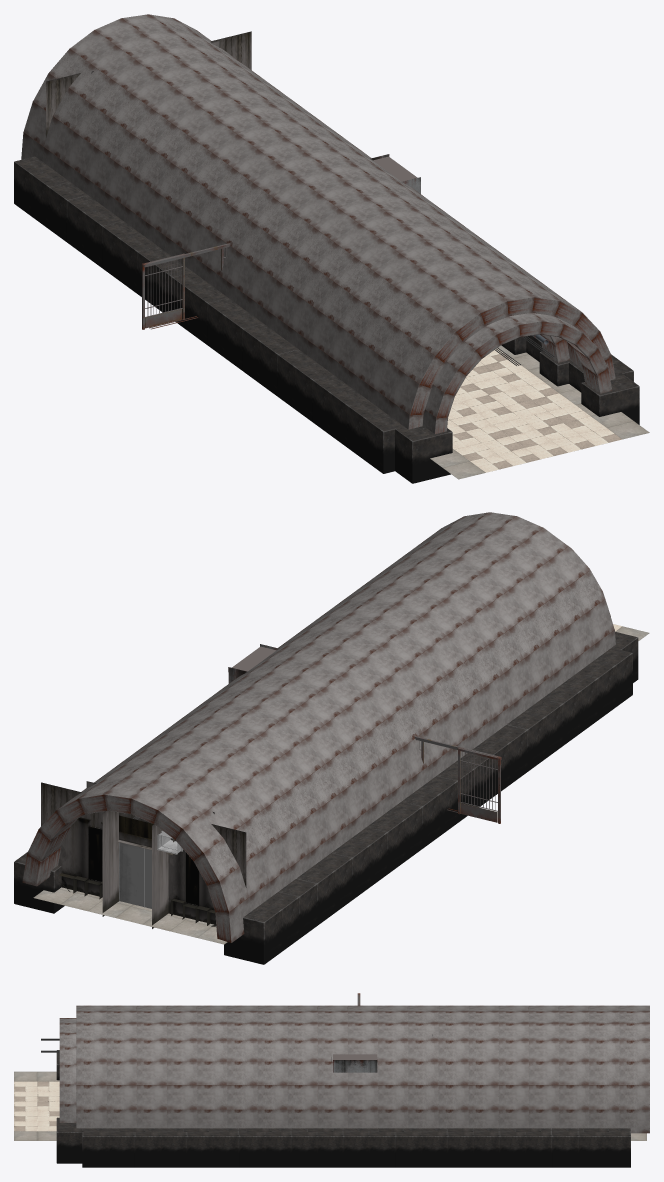
File: ALL Section 1 Past.fbx
The picture shows the model from 3 angles, top to bottom: view 1: azimuth 30°, elevation 25°; view 2: azimuth 150°, elevation 25°; view 3: azimuth 270°, elevation 25°; orthographic projection. The views are drawn at different scales.
Parts seen in each view (by area): view 1: LeakingWall2, secondwalls1, AllFloor, Fence2, RightSideUVAdjusted, TopTicketBooth; view 2: LeakingWall2, secondwalls1, RightSideUVAdjusted, AllFloor, Fence2, LiftDoors1, TopSideUVAdjusted, TopTicketBooth; view 3: LeakingWall2, secondwalls1, AllFloor, TopTicketBooth.
Part boxes in pixels (x1,y1,x2,y2): LeakingWall2: (21,14,615,433); secondwalls1: (14,156,639,483); AllFloor: (430,345,649,479); Fence2: (142,243,230,329); RightSideUVAdjusted: (46,31,251,137); TopTicketBooth: (370,154,420,193); LeakingWall2: (22,512,615,942); secondwalls1: (14,631,638,964); RightSideUVAdjusted: (41,782,246,928); AllFloor: (33,624,649,944); Fence2: (414,736,501,823); LiftDoors1: (119,842,151,908); TopSideUVAdjusted: (86,781,214,855); TopTicketBooth: (228,644,278,683); LeakingWall2: (59,1005,649,1133); secondwalls1: (56,1050,630,1167); AllFloor: (14,1071,646,1140); TopTicketBooth: (331,1054,377,1072).
Size of the model in its own units: 1114 by 514 by 2713.
